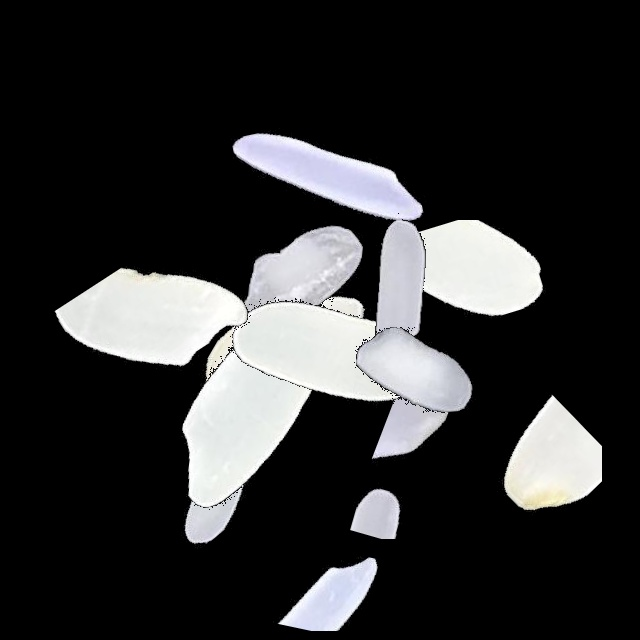Broken: (44, 253, 294, 423), (344, 220, 594, 375), (319, 382, 569, 510), (477, 346, 602, 596), (192, 515, 442, 631), (263, 437, 513, 539), (214, 415, 464, 495)
Full: (97, 353, 347, 603), (153, 229, 403, 479), (124, 294, 374, 544), (174, 151, 424, 401), (201, 52, 451, 302), (204, 226, 454, 476), (274, 162, 524, 412), (290, 246, 540, 496)
